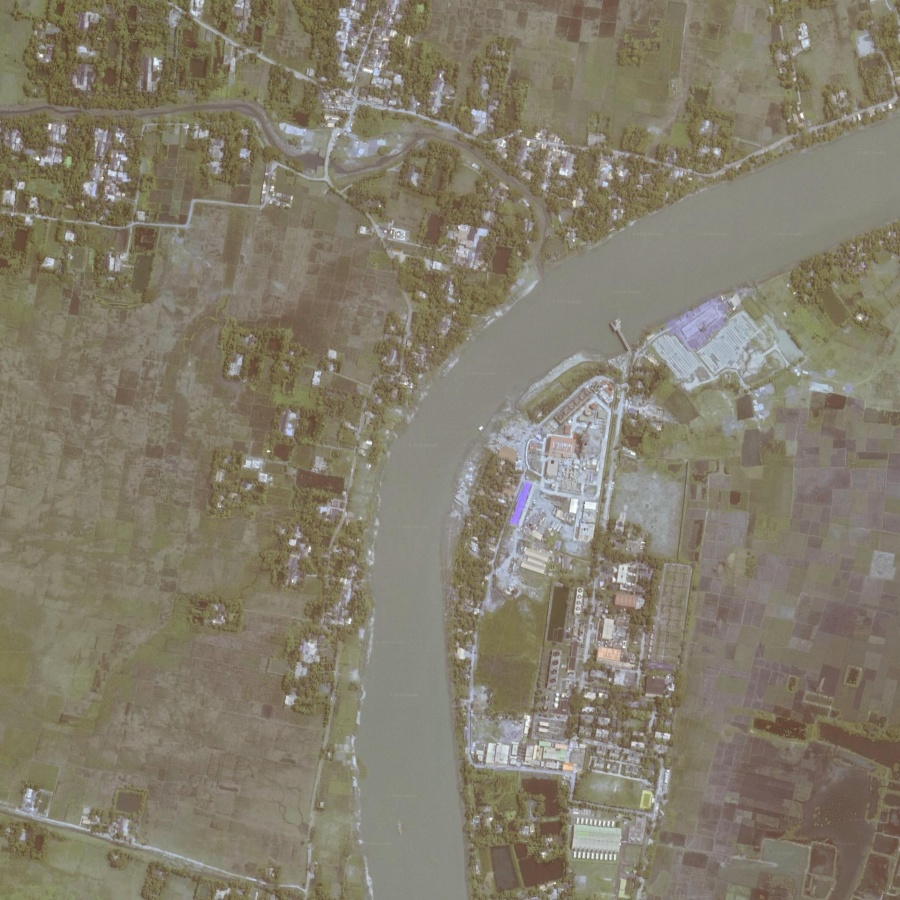PowerPlant: (537, 387, 608, 542)
